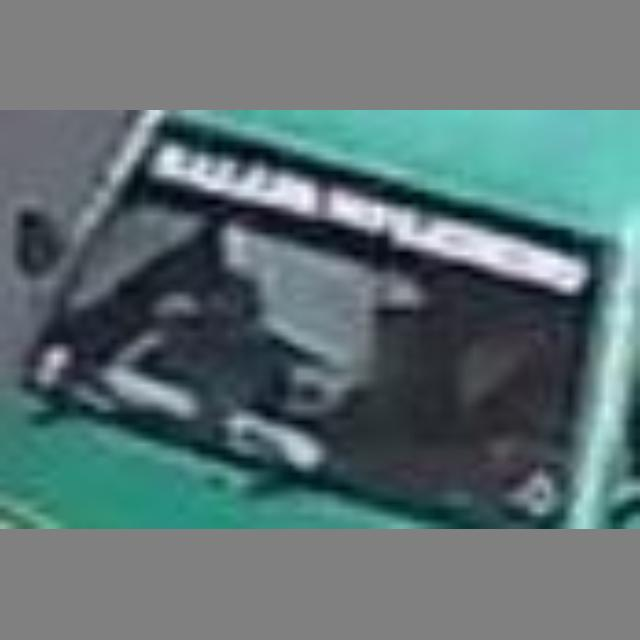tidak-pakai: (191, 206, 405, 412)
